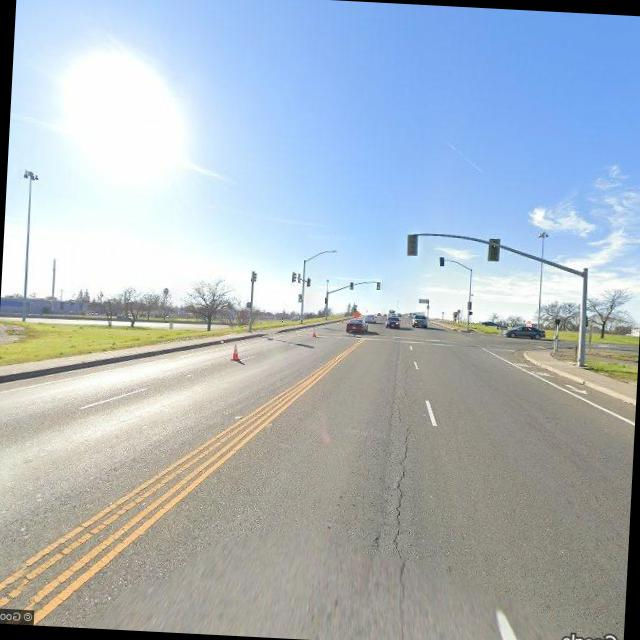crack: (382, 414, 420, 573)
